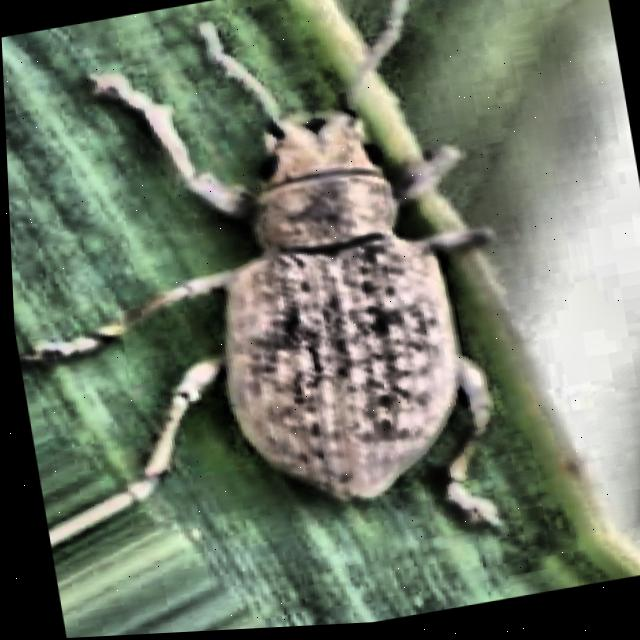Stink bug: (103, 0, 596, 588)
